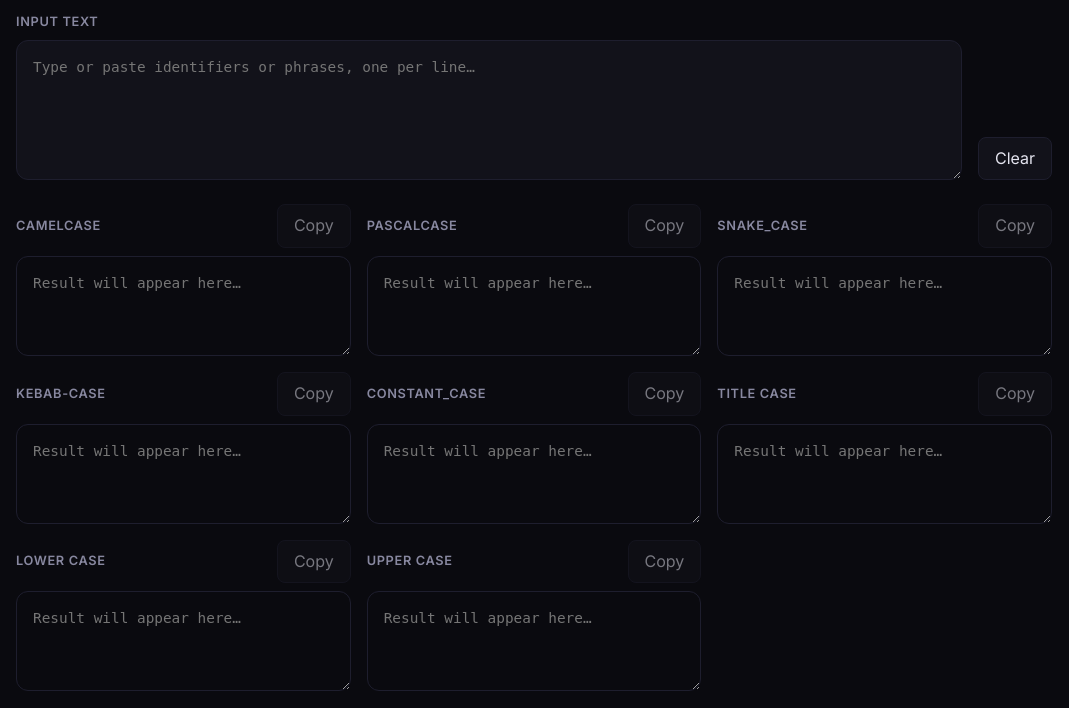
Test: CaseConverterTool conversion › converts input to every case in real time
Type "user_id" into the text box labelled "Input text".
click(489, 110); type("user_id")  # box x1=16 y1=40 x2=962 y2=180
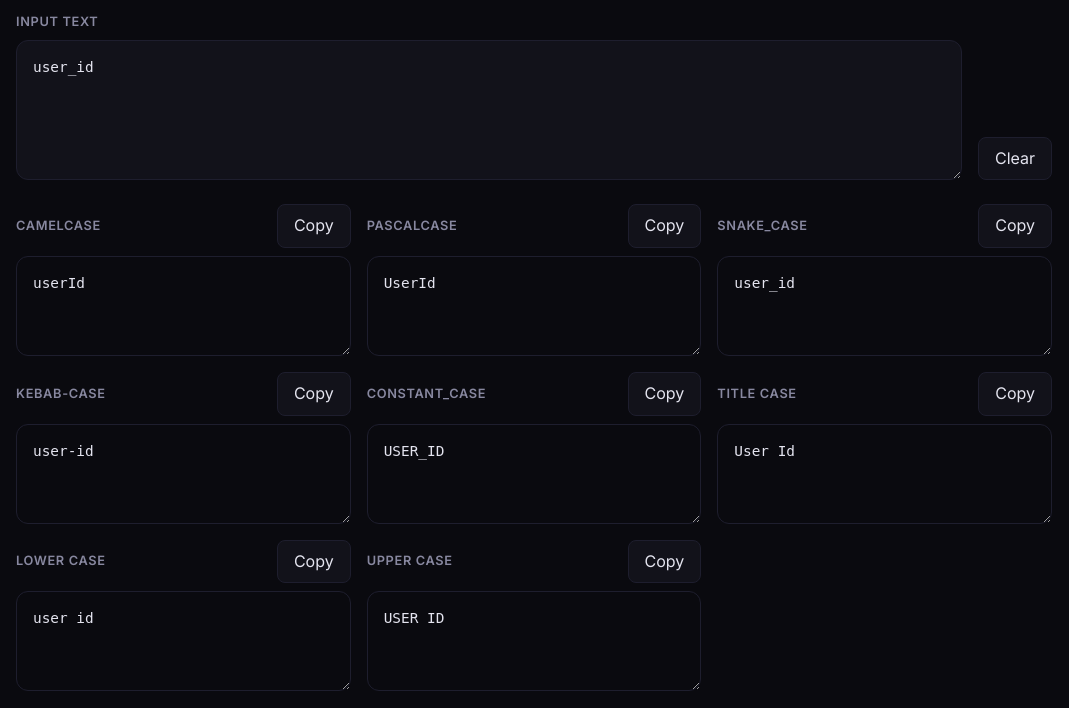
Result: the text box labelled "camelCase" holds "userId" at x1=16 y1=256 x2=351 y2=356
Result: the text box labelled "PascalCase" holds "UserId" at x1=367 y1=256 x2=701 y2=356
Result: the text box labelled "snake_case" holds "user_id" at x1=717 y1=256 x2=1052 y2=356
